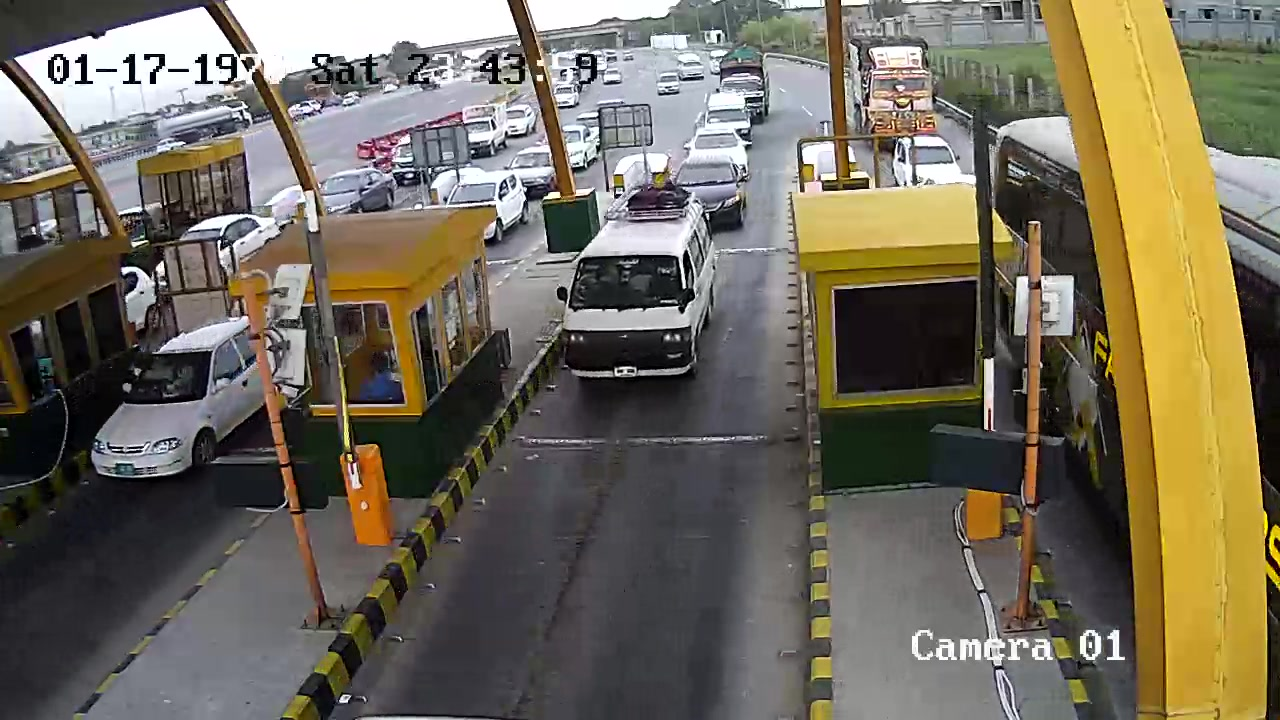F3: (558, 179, 728, 406)
